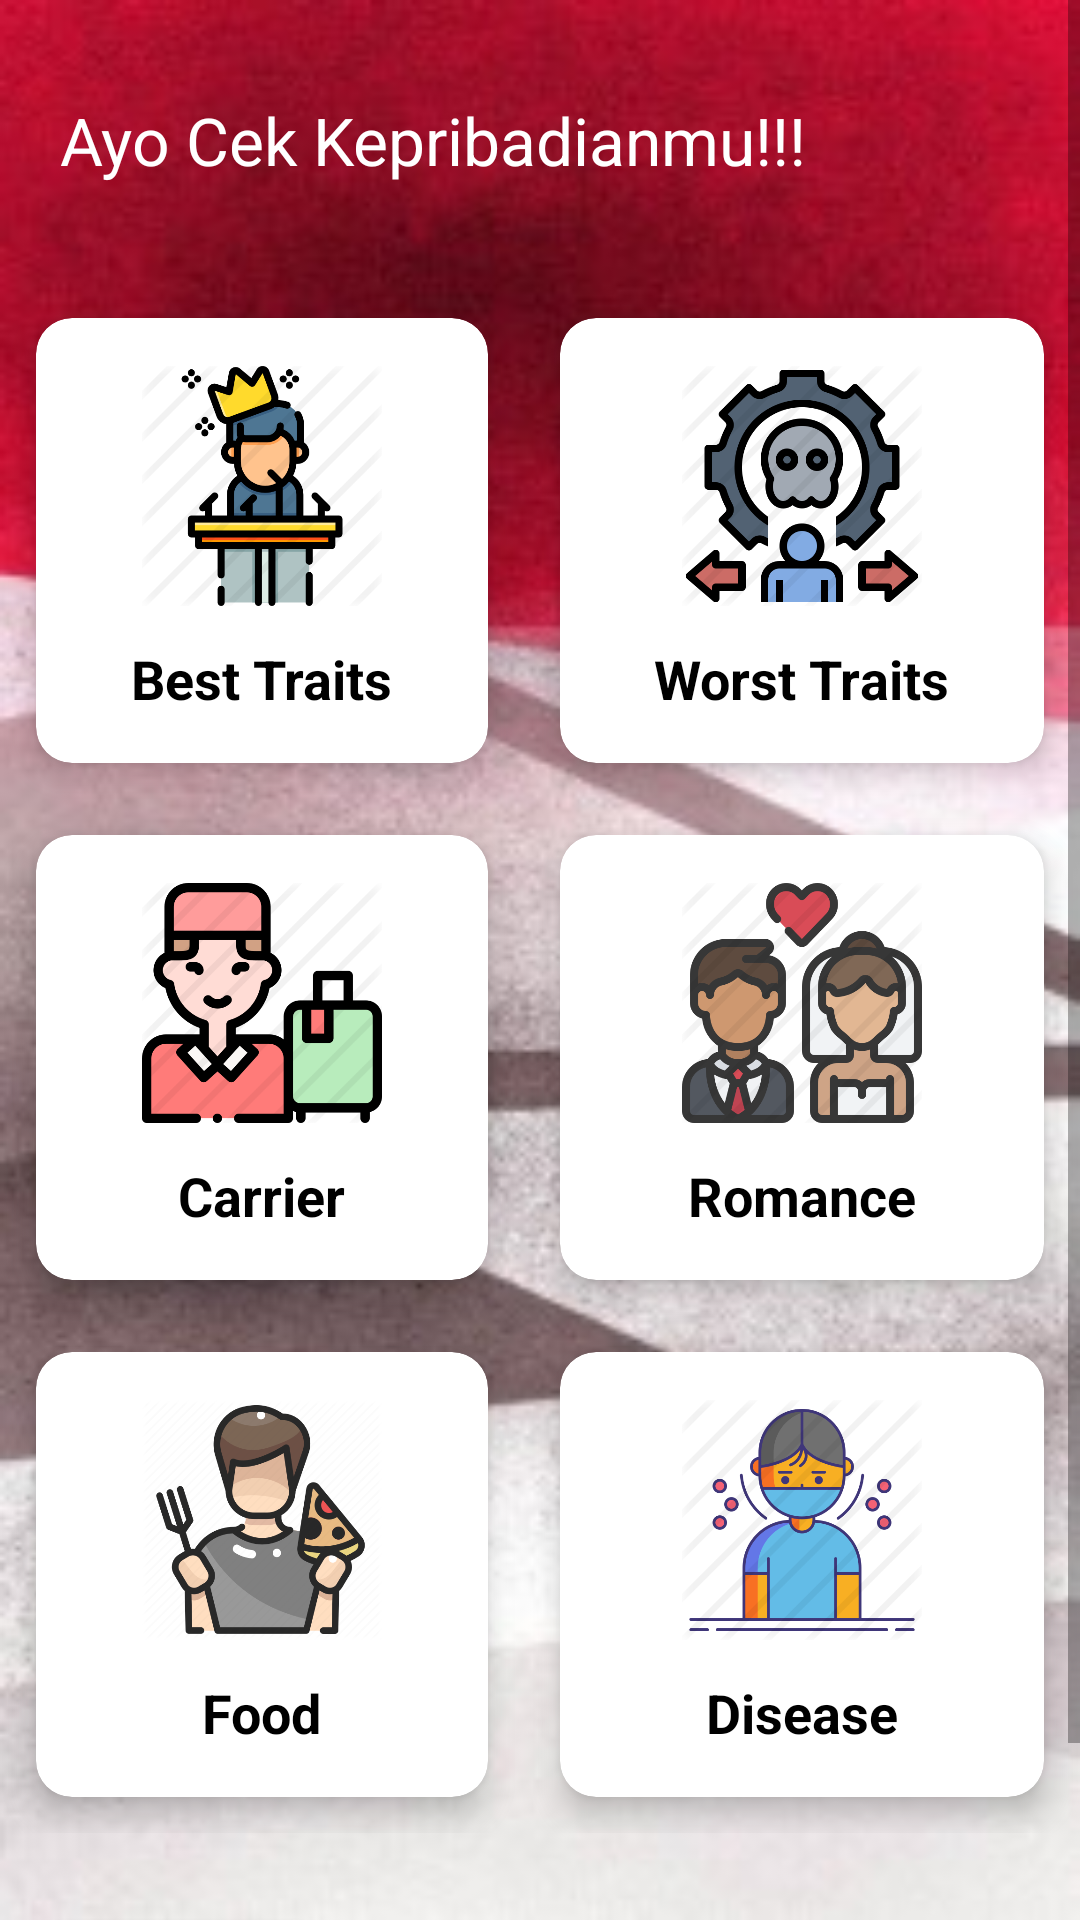

Screen size 1080px×1920px. Icon name, then its box in pixels as (x1, y1, x2, y2):
bad: (686, 370, 918, 602)
